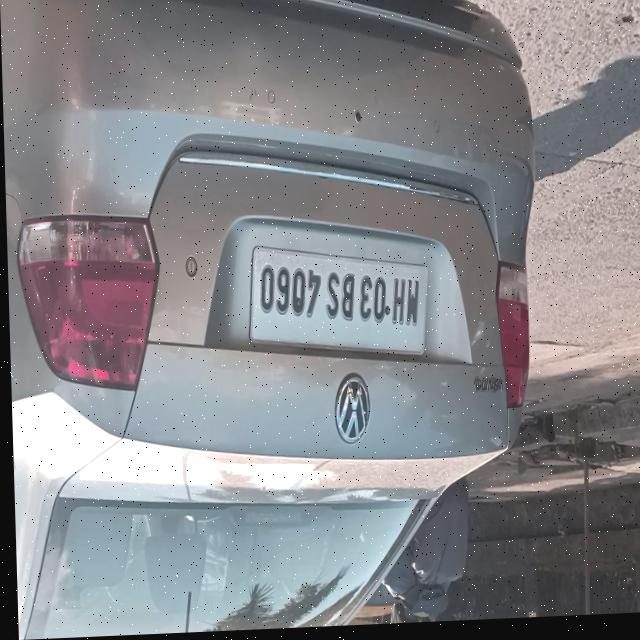plate: (245, 240, 430, 368)
